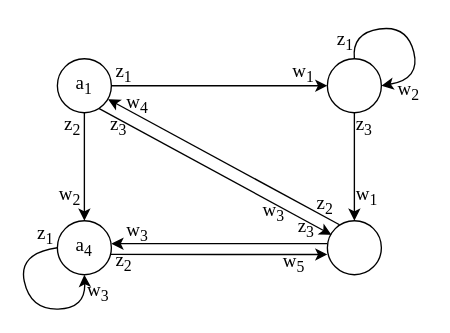
This 450x333 diagram has some shape labels left out. Each missing label, with the box of its shape:
a 2: (326, 57, 381, 113)
a 3: (326, 219, 381, 275)
